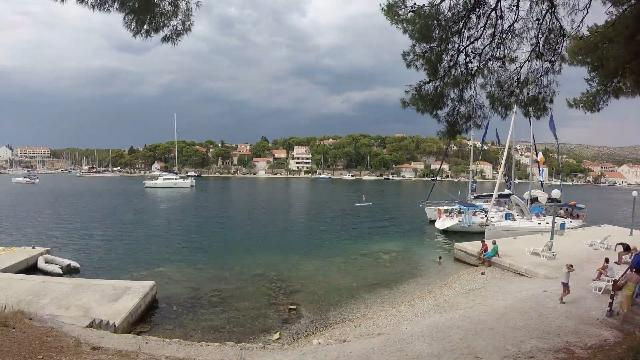Freighter: (72, 162, 126, 180)
Sailboat: (140, 170, 198, 190), (8, 172, 44, 187)
